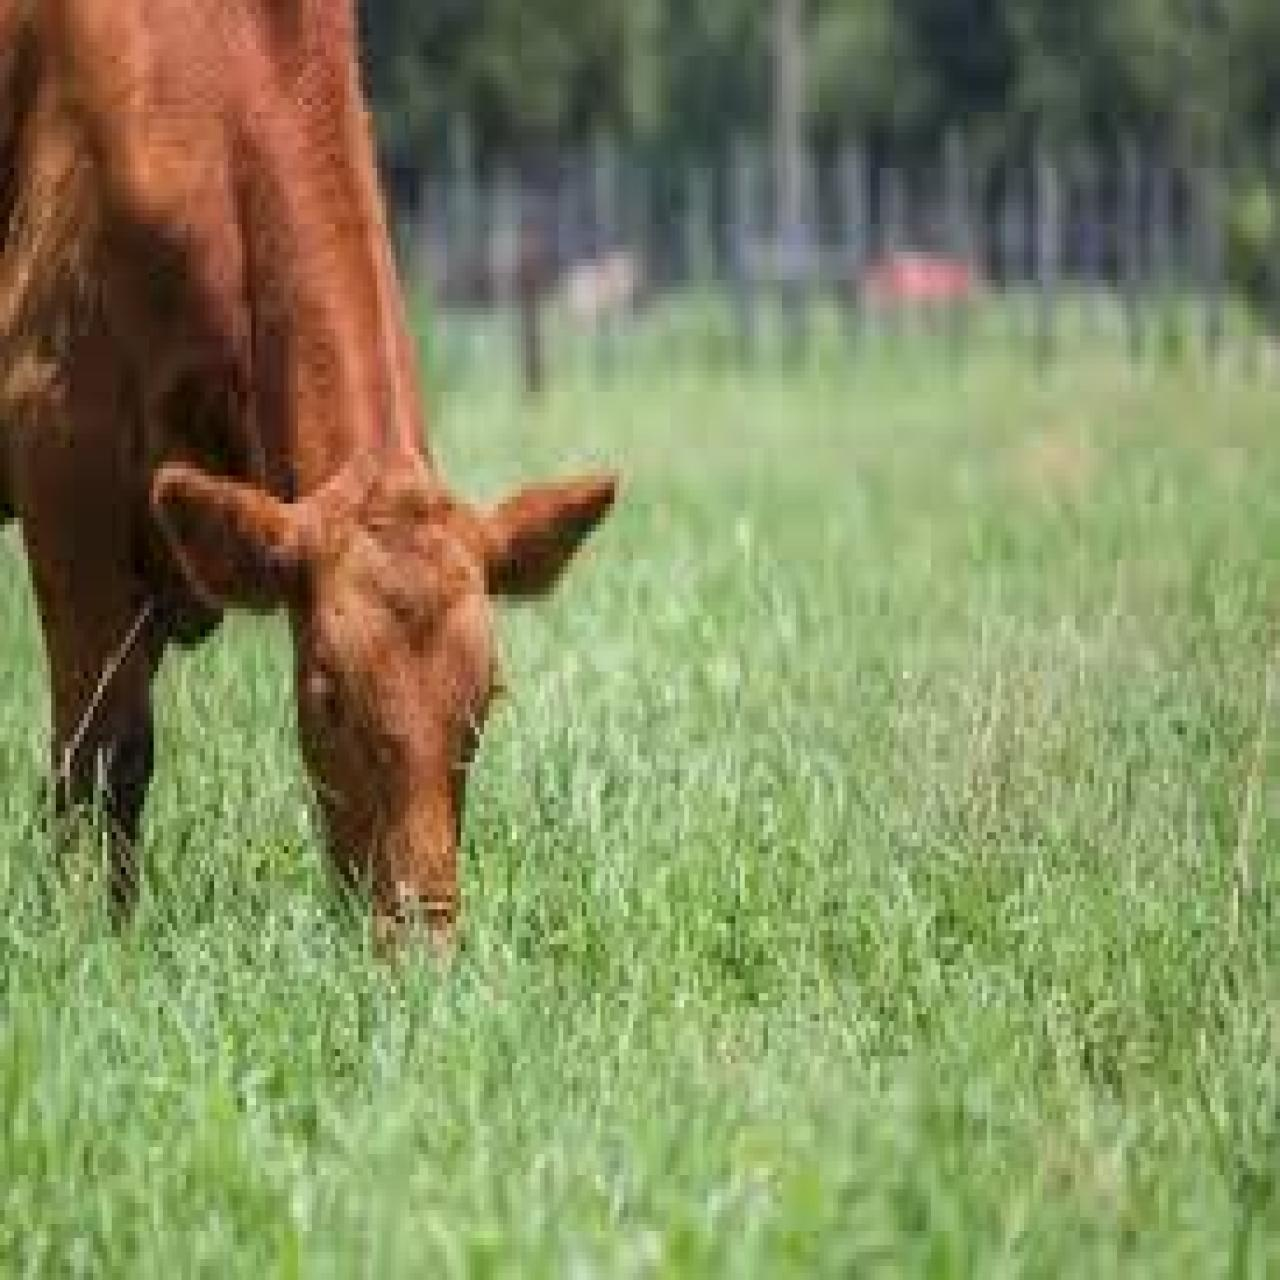cow: (0, 0, 619, 951)
